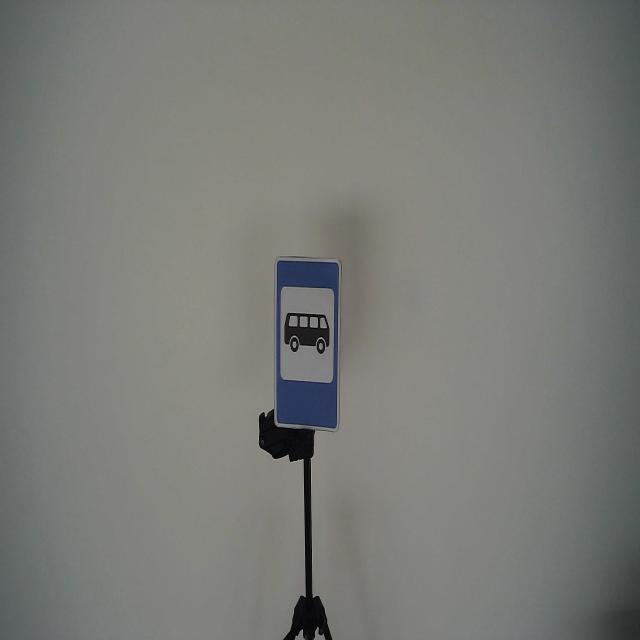bus_stop: (271, 252, 343, 434)
